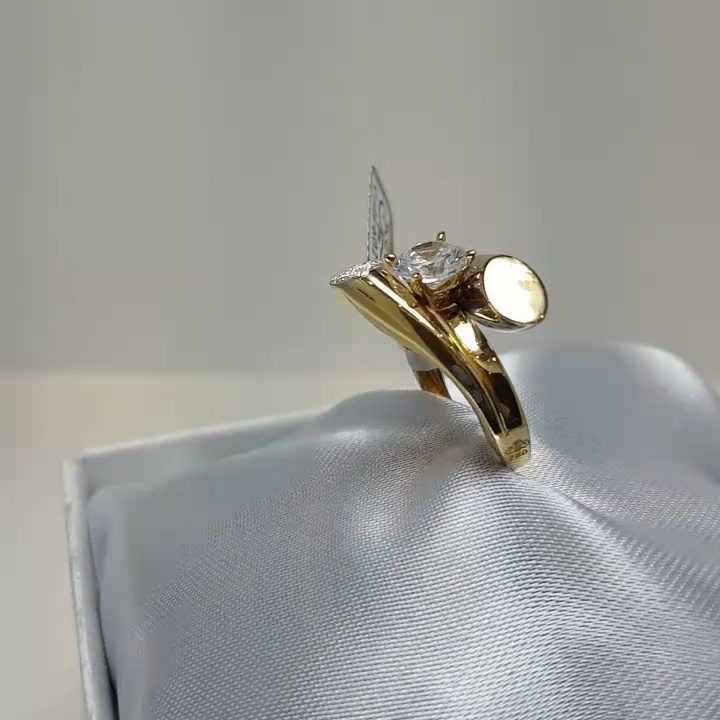Ring 7: (328, 216, 583, 470)
